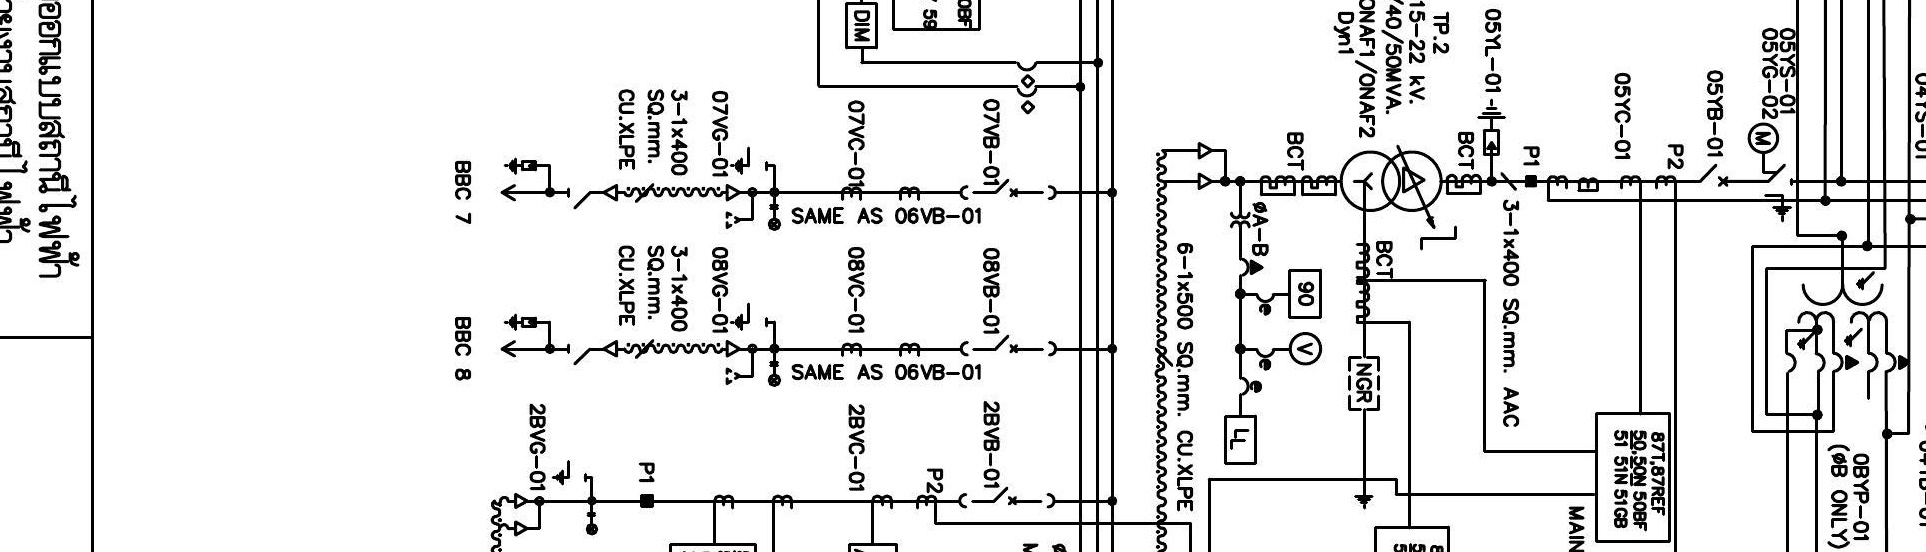11522_tx_dyn1: (1339, 150, 1443, 213)
115_3ways_ds_w_motor: (1747, 122, 1793, 224)
115_breaker: (1698, 172, 1728, 195)
115_la: (1476, 98, 1507, 157)
115_vt_1p: (1796, 270, 1910, 374)
22_breaker: (958, 333, 1059, 358), (957, 486, 1056, 509), (958, 178, 1058, 202)
22_ds_la_out: (500, 156, 592, 210), (500, 312, 591, 366)
22_gs: (730, 301, 769, 332), (728, 146, 769, 176), (550, 460, 588, 487)
22_ll: (766, 359, 782, 388), (768, 203, 782, 232), (585, 510, 599, 536)
DIM: (844, 1, 879, 50)
LL: (1223, 413, 1258, 466)
NGR_future: (1346, 355, 1382, 510)
terminator_double: (1198, 141, 1228, 192), (512, 492, 542, 537)
terminator_single: (602, 183, 619, 203), (602, 339, 619, 359)
terminator_w_future: (725, 338, 755, 386), (725, 183, 755, 230)
v_m: (1287, 331, 1323, 366)
